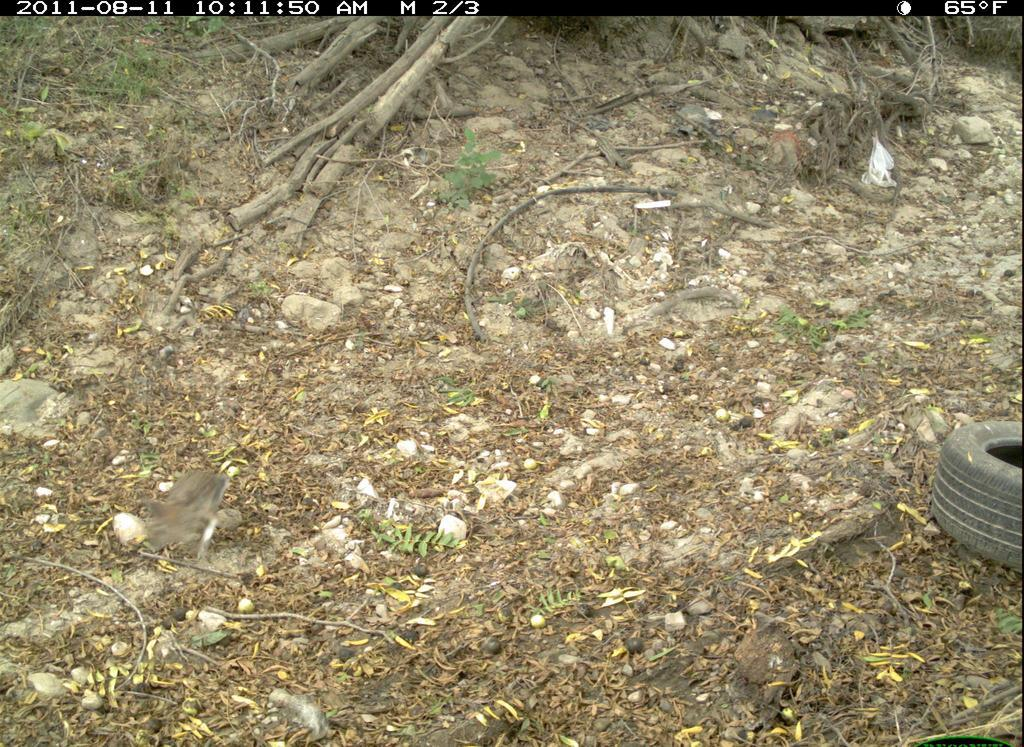rabbit: (137, 465, 239, 570)
